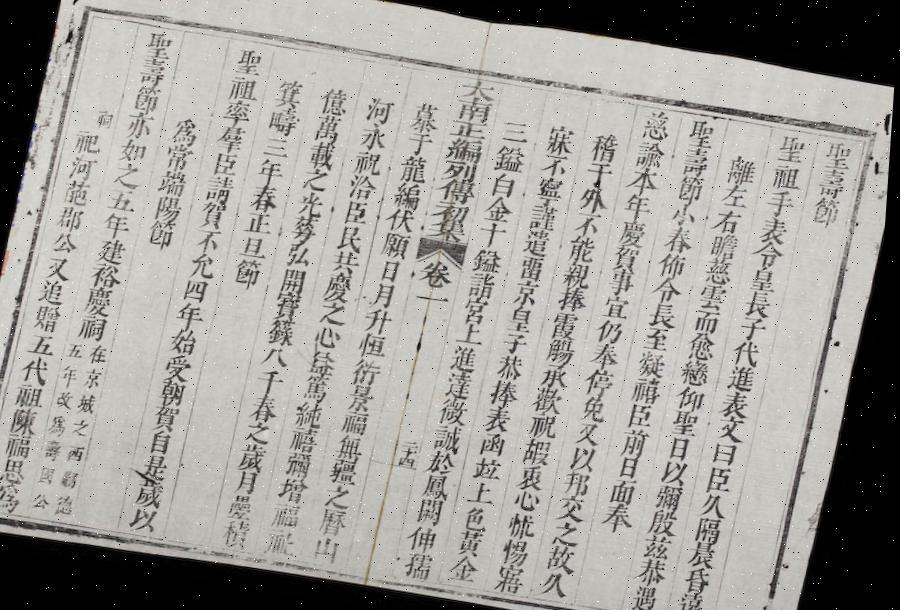c: (542, 120, 582, 157), (418, 258, 462, 291), (407, 97, 446, 134), (452, 95, 498, 126), (437, 175, 481, 206), (497, 561, 537, 595), (83, 284, 123, 318), (20, 352, 60, 386), (528, 197, 566, 232), (822, 138, 860, 173), (725, 152, 763, 187), (316, 83, 354, 118), (605, 500, 644, 534), (774, 132, 813, 166), (223, 516, 262, 550), (444, 135, 488, 165), (588, 128, 624, 164), (230, 44, 268, 78), (678, 144, 716, 178), (810, 196, 848, 230), (640, 108, 678, 142), (202, 173, 241, 206), (352, 355, 391, 388), (440, 394, 479, 427), (406, 548, 446, 580), (410, 522, 450, 554), (640, 554, 680, 586), (452, 552, 492, 584), (264, 106, 304, 138), (492, 142, 532, 174), (272, 75, 308, 110), (233, 256, 270, 290), (11, 404, 48, 438), (397, 152, 434, 186), (140, 28, 178, 61), (758, 214, 796, 247), (250, 391, 288, 424), (566, 233, 604, 266), (768, 162, 807, 194), (632, 138, 671, 170), (320, 505, 359, 537), (550, 542, 589, 574), (742, 288, 781, 320), (295, 398, 334, 430), (273, 498, 312, 530), (88, 260, 128, 291), (362, 92, 398, 126), (146, 218, 182, 252), (324, 270, 360, 304), (688, 330, 725, 363), (240, 440, 277, 473), (305, 139, 342, 172), (214, 122, 252, 154), (302, 372, 340, 404), (70, 126, 108, 158), (346, 382, 384, 414), (683, 117, 721, 149), (138, 477, 176, 509), (585, 366, 623, 398), (356, 121, 394, 153), (722, 388, 760, 420), (510, 509, 548, 541), (524, 436, 562, 468), (632, 374, 670, 406), (638, 348, 676, 380), (310, 112, 348, 144), (534, 384, 572, 416), (390, 180, 428, 212), (457, 74, 502, 101), (433, 422, 472, 453), (732, 337, 771, 368), (99, 209, 138, 240), (280, 473, 319, 504), (330, 456, 370, 486), (429, 216, 473, 243), (176, 299, 213, 331), (446, 369, 483, 401), (577, 182, 614, 214), (122, 109, 159, 141), (33, 302, 70, 334), (60, 176, 97, 208), (256, 365, 293, 397), (618, 216, 655, 248), (363, 304, 400, 336), (450, 342, 487, 374), (466, 270, 503, 302), (248, 182, 285, 214), (491, 377, 528, 409), (380, 230, 417, 262), (703, 256, 741, 287), (764, 188, 802, 219), (95, 235, 133, 266), (290, 424, 328, 455), (54, 202, 92, 233), (164, 351, 202, 382), (156, 167, 194, 198), (482, 194, 520, 225), (663, 224, 701, 255), (626, 165, 665, 195), (76, 313, 115, 343), (268, 526, 307, 556), (751, 240, 790, 270), (529, 411, 568, 441), (169, 114, 204, 147), (135, 56, 171, 88), (622, 426, 658, 458), (708, 463, 744, 495), (816, 168, 852, 200), (273, 290, 309, 322), (268, 316, 304, 348), (522, 227, 558, 259), (622, 191, 659, 222), (477, 219, 514, 250), (158, 377, 195, 408), (65, 152, 102, 183), (692, 539, 729, 570), (143, 451, 180, 482), (1, 455, 38, 486), (682, 357, 719, 388), (358, 330, 396, 360), (712, 206, 750, 236), (428, 447, 466, 477), (676, 384, 714, 414), (336, 432, 374, 462), (15, 381, 53, 411), (504, 536, 542, 566), (132, 504, 170, 534), (544, 568, 582, 598), (285, 448, 323, 478), (648, 300, 686, 330), (472, 246, 510, 276), (635, 581, 674, 610), (0, 480, 33, 514), (440, 158, 483, 184), (728, 363, 764, 394), (652, 507, 688, 538), (460, 527, 496, 558), (508, 304, 544, 335), (197, 200, 233, 231), (170, 326, 206, 357), (560, 492, 596, 523), (485, 403, 521, 434), (674, 174, 710, 205), (112, 159, 148, 190), (130, 83, 166, 114), (162, 142, 198, 173), (552, 310, 588, 341), (346, 172, 382, 203), (702, 490, 739, 520), (718, 414, 755, 444), (554, 518, 591, 548), (708, 231, 745, 261), (326, 480, 363, 510), (646, 532, 683, 562), (557, 284, 594, 314), (657, 250, 694, 280), (673, 408, 709, 438), (226, 74, 262, 104), (188, 250, 224, 280), (288, 214, 324, 244), (520, 462, 556, 492), (611, 244, 647, 274), (592, 341, 628, 371), (316, 533, 352, 563), (6, 432, 42, 462), (308, 348, 344, 378), (698, 514, 734, 544), (38, 276, 74, 306), (342, 408, 378, 438), (499, 116, 535, 146), (461, 296, 497, 326), (447, 118, 492, 142), (657, 482, 693, 512), (255, 156, 291, 186), (562, 260, 598, 290), (295, 189, 331, 219), (498, 352, 534, 382), (352, 148, 388, 178), (434, 200, 477, 225), (470, 477, 507, 506), (385, 206, 422, 235), (718, 182, 756, 210), (572, 443, 606, 474), (153, 193, 188, 223), (284, 239, 319, 269), (612, 476, 647, 506), (419, 496, 454, 526), (336, 223, 371, 253), (596, 316, 632, 345), (244, 209, 280, 238), (424, 471, 460, 500), (116, 136, 152, 165), (230, 492, 266, 521), (44, 253, 80, 282), (153, 403, 189, 432), (749, 265, 785, 294), (687, 565, 723, 594), (698, 282, 734, 311), (653, 275, 689, 304), (582, 160, 619, 188), (280, 266, 314, 296), (582, 394, 616, 424), (663, 458, 698, 487), (28, 329, 63, 358), (415, 288, 457, 312), (209, 150, 245, 178), (542, 362, 578, 390), (513, 278, 546, 308), (644, 325, 678, 354), (694, 306, 728, 335), (628, 401, 662, 430), (331, 248, 366, 276), (220, 98, 255, 126), (490, 171, 523, 200), (466, 503, 499, 532), (714, 439, 747, 468), (343, 198, 376, 227), (566, 469, 600, 497), (477, 454, 511, 482), (608, 268, 642, 296), (670, 200, 704, 228), (315, 324, 349, 352), (534, 174, 568, 202), (740, 314, 774, 342), (548, 338, 582, 366), (320, 300, 354, 328), (517, 486, 552, 513), (261, 134, 296, 161), (107, 187, 142, 214), (150, 427, 182, 456), (670, 433, 702, 462), (518, 254, 551, 282), (604, 293, 637, 321), (300, 167, 335, 193), (540, 153, 575, 179), (246, 419, 281, 445), (372, 280, 402, 310), (195, 226, 227, 254), (578, 420, 610, 448), (482, 430, 514, 458), (240, 233, 273, 260), (404, 130, 438, 156), (50, 230, 84, 256), (574, 211, 606, 238), (236, 468, 268, 495), (459, 321, 492, 347), (264, 344, 298, 369), (503, 330, 536, 355), (184, 277, 214, 304), (619, 454, 650, 480), (681, 589, 717, 610), (62, 360, 87, 389), (380, 258, 407, 284), (59, 491, 85, 518), (84, 364, 110, 390), (47, 436, 72, 463), (93, 106, 118, 131), (80, 390, 105, 415), (52, 411, 76, 437), (36, 488, 60, 513), (90, 342, 115, 366), (64, 466, 88, 490), (41, 462, 65, 486), (74, 416, 98, 439), (69, 442, 94, 464), (59, 388, 82, 410), (68, 339, 91, 360), (406, 446, 426, 459), (404, 456, 424, 468), (406, 439, 426, 449)
